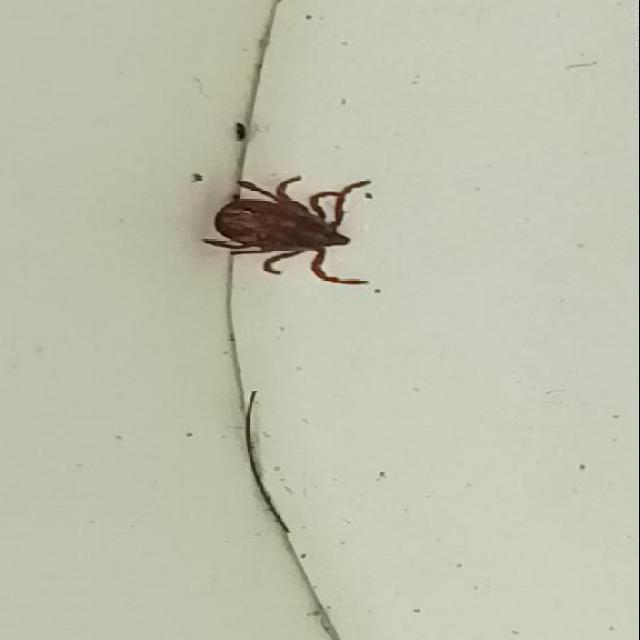Rhipicephalus Sanguineus-M: (204, 176, 383, 292)
